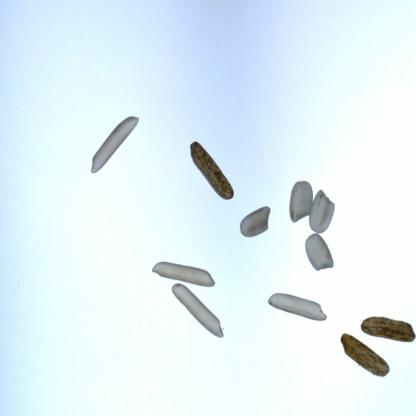Full: (80, 100, 147, 184), (178, 135, 241, 212), (166, 282, 222, 360), (335, 322, 394, 373), (263, 287, 327, 329), (143, 258, 217, 292), (353, 303, 416, 341), (229, 204, 275, 247), (294, 231, 334, 275), (306, 186, 338, 235), (287, 178, 316, 226)
